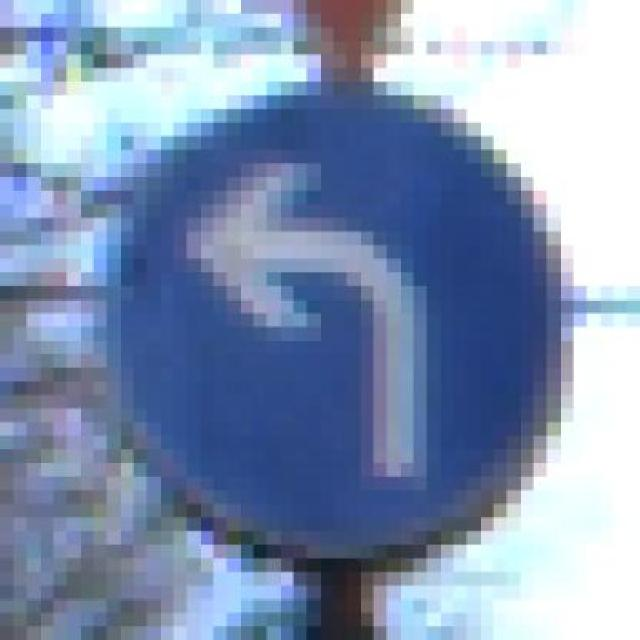Turn left ahead: (80, 54, 600, 572)
